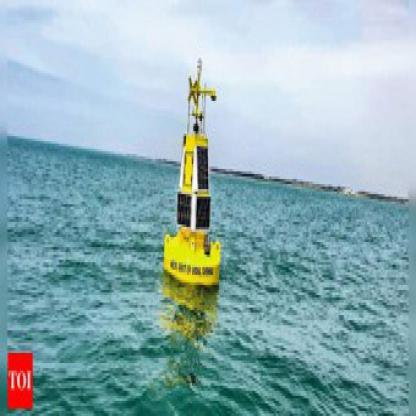buoy: (157, 40, 230, 295)
